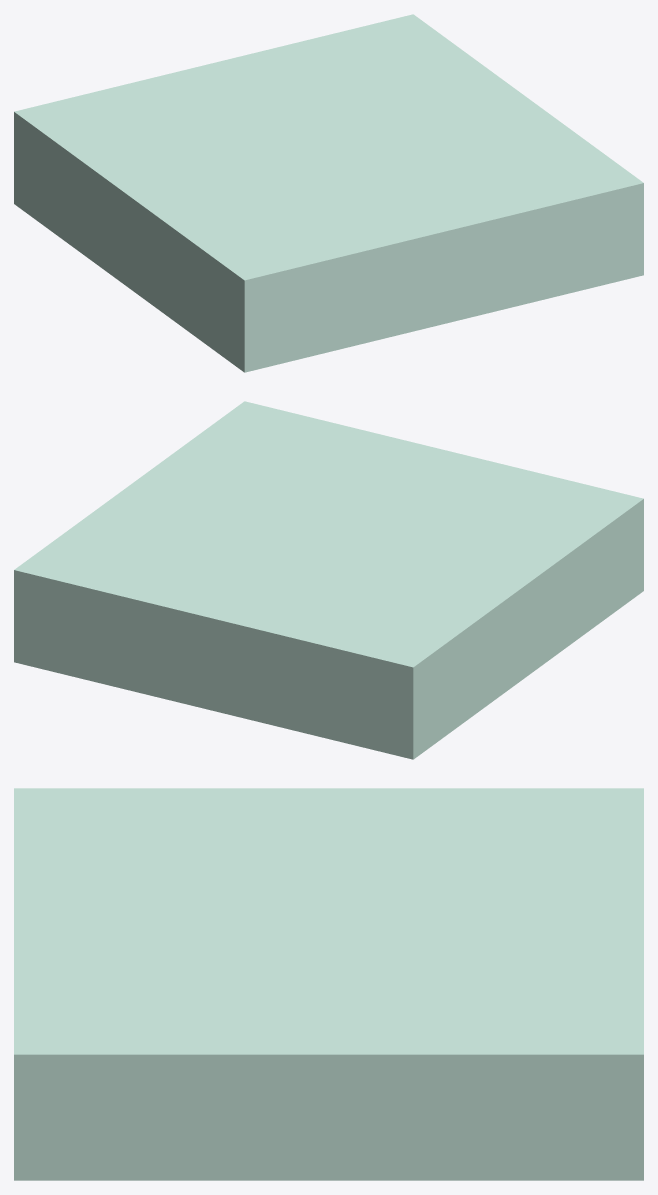
The picture shows the model from 3 angles, top to bottom: view 1: azimuth 30°, elevation 25°; view 2: azimuth 150°, elevation 25°; view 3: azimuth 270°, elevation 25°; orthographic projection. The views are drawn at different scales.
Visible parts, largest first — view 1: Renderer Node; view 2: Renderer Node; view 3: Renderer Node.
Part boxes in pixels (x1,y1,x2,y2): Renderer Node: (14,14,643,372); Renderer Node: (14,401,643,759); Renderer Node: (14,788,643,1180).
Bounding box in the file's own units: 1.2 × 0.2656 × 1.2.
